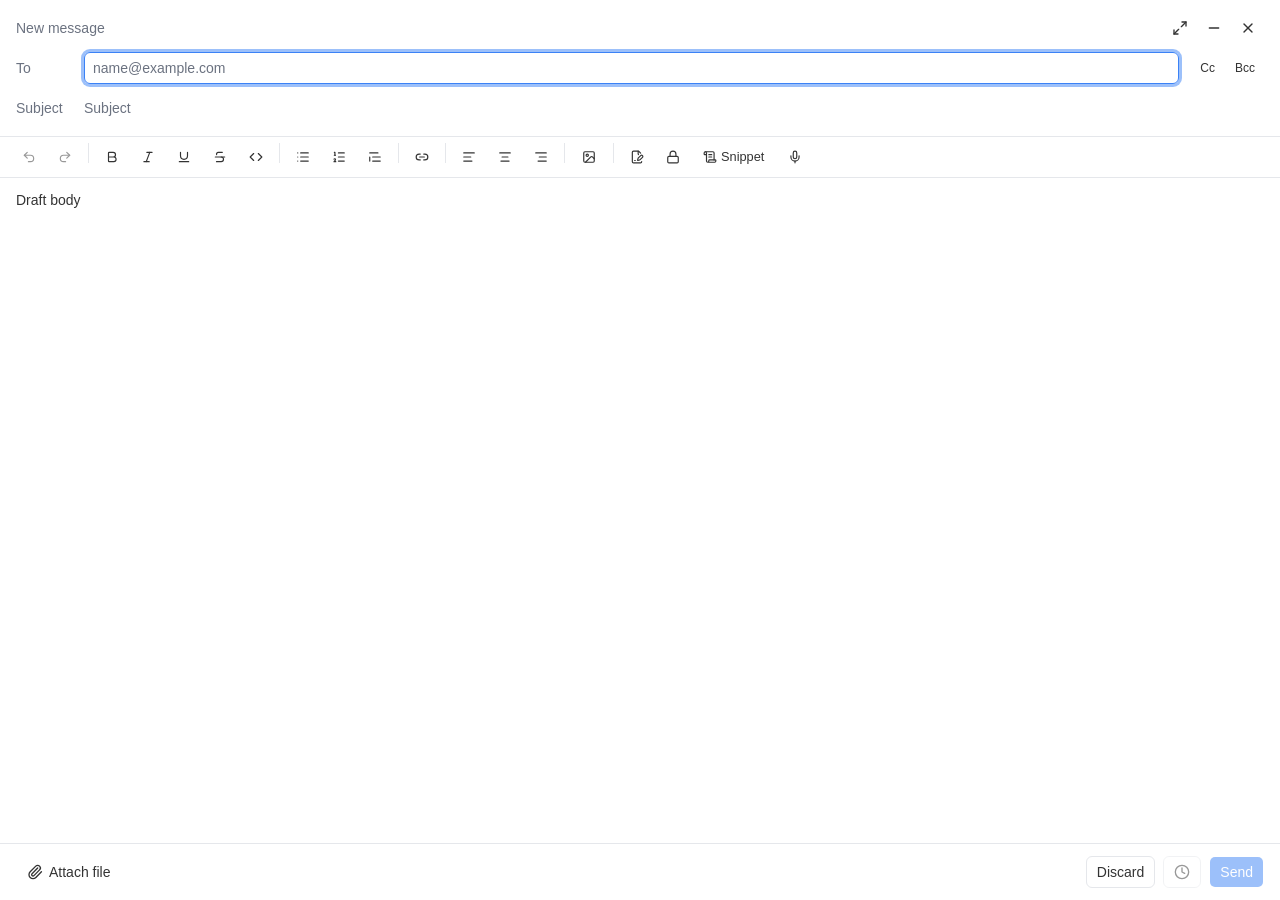
Test: dictation cancel path › discards the recording: composer text unchanged, nothing inserted
The width and height of the screenshot is (1280, 900).
Check: the field named "Message body" is shown, box [16,192,81,208]
Click the button with test id "dictation-button" at (795, 157), box [777,143,813,171]
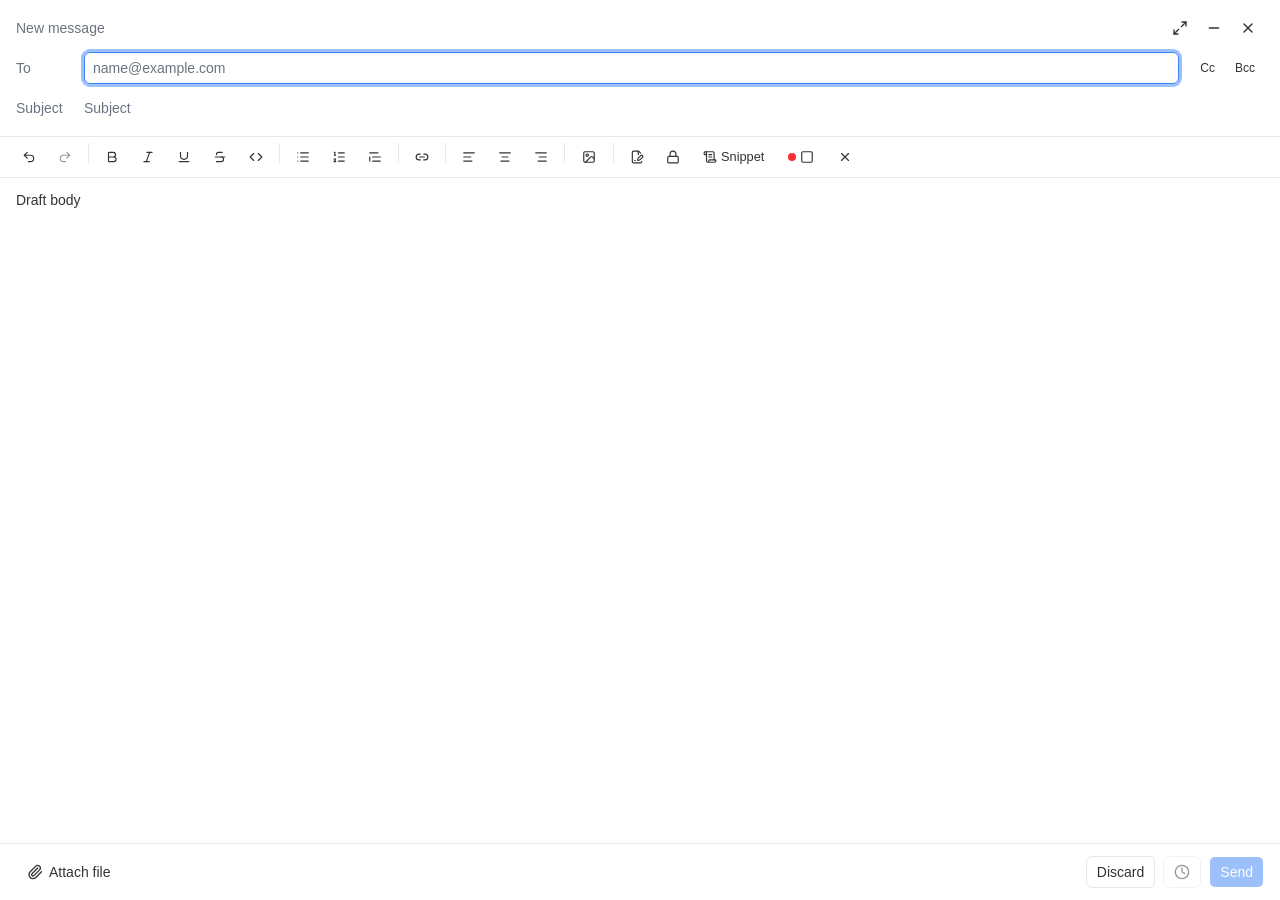
Check: the element with test id "dictation-recording-dot" is shown, box [788,153,796,161]
// Cancel mid-dictation (spec "Cancel mid-dictation").
Click the button with test id "dictation-cancel" at (845, 157), box [827,143,863,171]
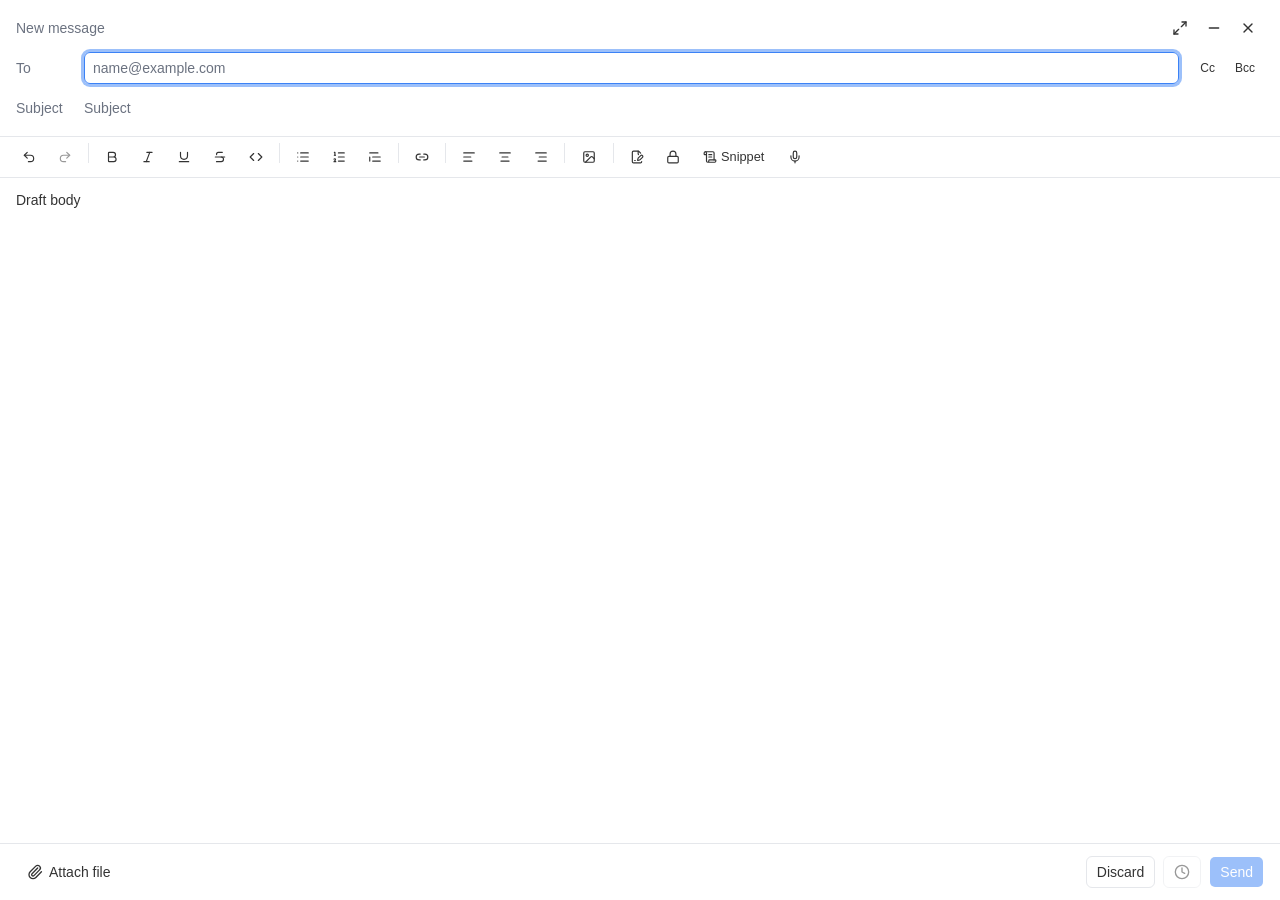
Check: the text box labelled "Draft body" is shown, box [16,192,81,208]
Check: the button with test id "dictation-cancel" is gone
